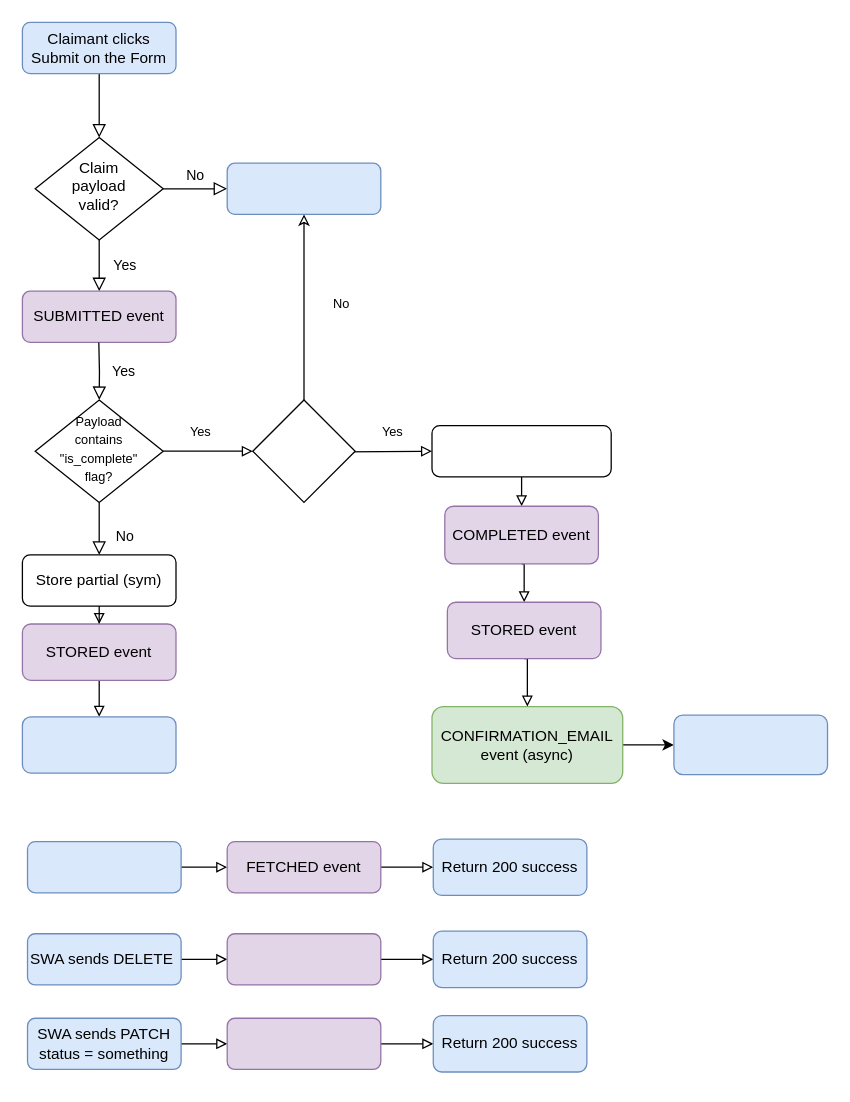
This 850x1102 diagram has some shape labels left out. The shapes that lost their labels are listed below. From the top down, each one's centre as x and y in pixels, then its label:
the point at 303,188: Return 400 error
the point at 303,450: Fully valid?
the point at 521,450: Store for SWA (asym)
the point at 98,744: Return 202 success
the point at 750,744: Return 201 success
the point at 103,866: SWA sends PATCH fetched = true
the point at 303,958: DELETED event
the point at 303,1043: STATUS_CHANGED event
